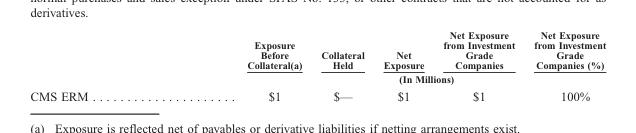table: (29, 28, 605, 102)
table column: (166, 28, 310, 102), (29, 28, 166, 102), (432, 28, 523, 102), (523, 28, 605, 102), (310, 28, 373, 102), (373, 28, 432, 102)
table column header: (29, 28, 605, 86)
table row: (29, 28, 605, 71), (29, 86, 605, 102), (29, 71, 605, 86)
table spanning cell: (166, 71, 605, 86)
